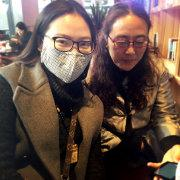NONE: (111, 29, 149, 71)
OK: (45, 31, 96, 82)
